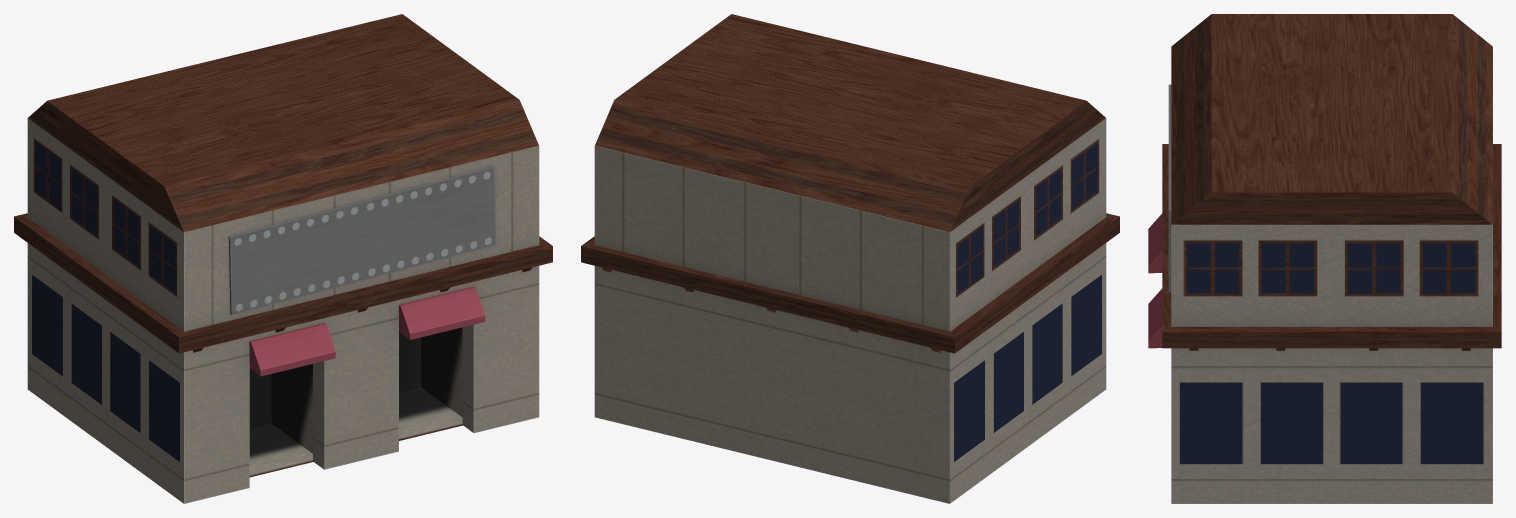
Rendered from sb_obj_ModernCity011_store_b.fbx.
The picture shows the model from 3 angles, left to right: view 1: azimuth 30°, elevation 25°; view 2: azimuth 150°, elevation 25°; view 3: azimuth 270°, elevation 25°; orthographic projection. The views are drawn at different scales.
Visible parts, largest first — view 1: sb_obj_ModernCity011_store_b; view 2: sb_obj_ModernCity011_store_b; view 3: sb_obj_ModernCity011_store_b.
Boxes of the visible parts, x1,y1,x2,y2 form: sb_obj_ModernCity011_store_b: [14, 14, 552, 503]; sb_obj_ModernCity011_store_b: [581, 14, 1119, 503]; sb_obj_ModernCity011_store_b: [1148, 14, 1501, 503].
Bounding box in the file's own units: 5 × 3.88 × 3.98.
